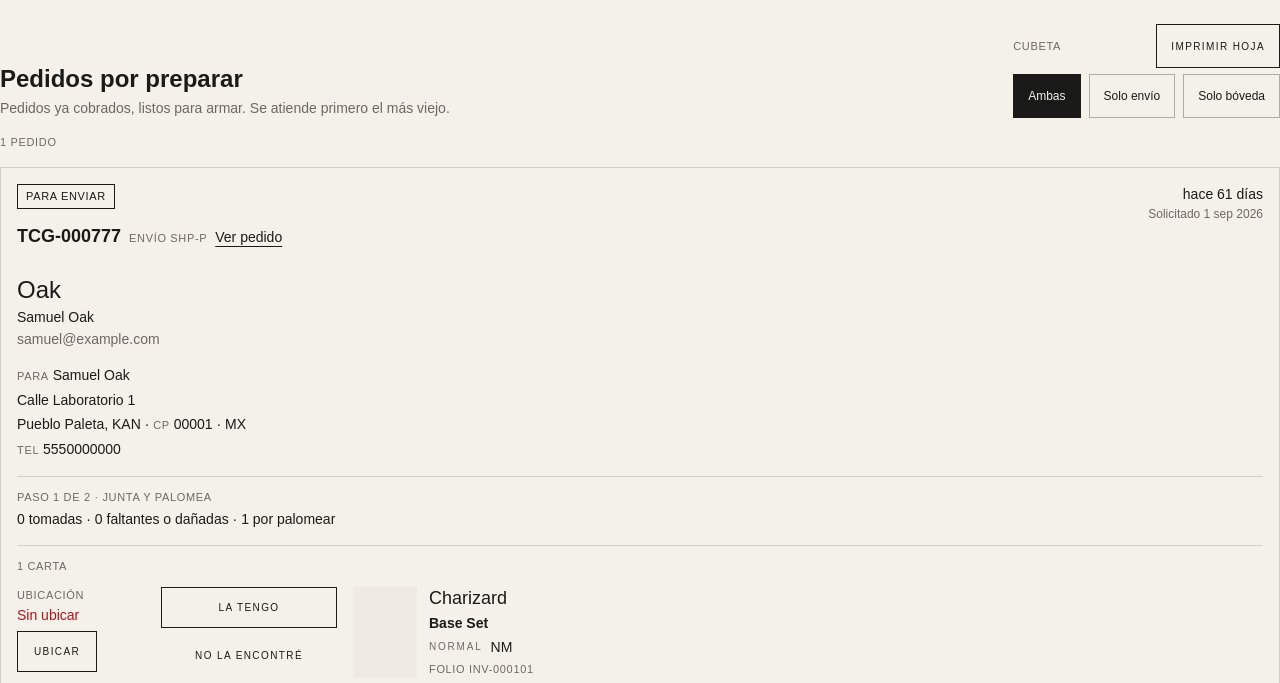
M4View · hueco 1: «Ubicar» una carta de un pedido de envío › «Sin ubicar» ⇒ «Ubicar» abre el selector (solo stock de plataforma), mueve y la tarjeta muestra la ubicación nueva (respuesta sin location)
Expected: the element with test id "prep-location-si-1" shows "Sin ubicar", [17,607,79,623]
Click the button with aria-label "Ubicar la carta con folio INV-000101": (57, 652) [17,631,97,672]
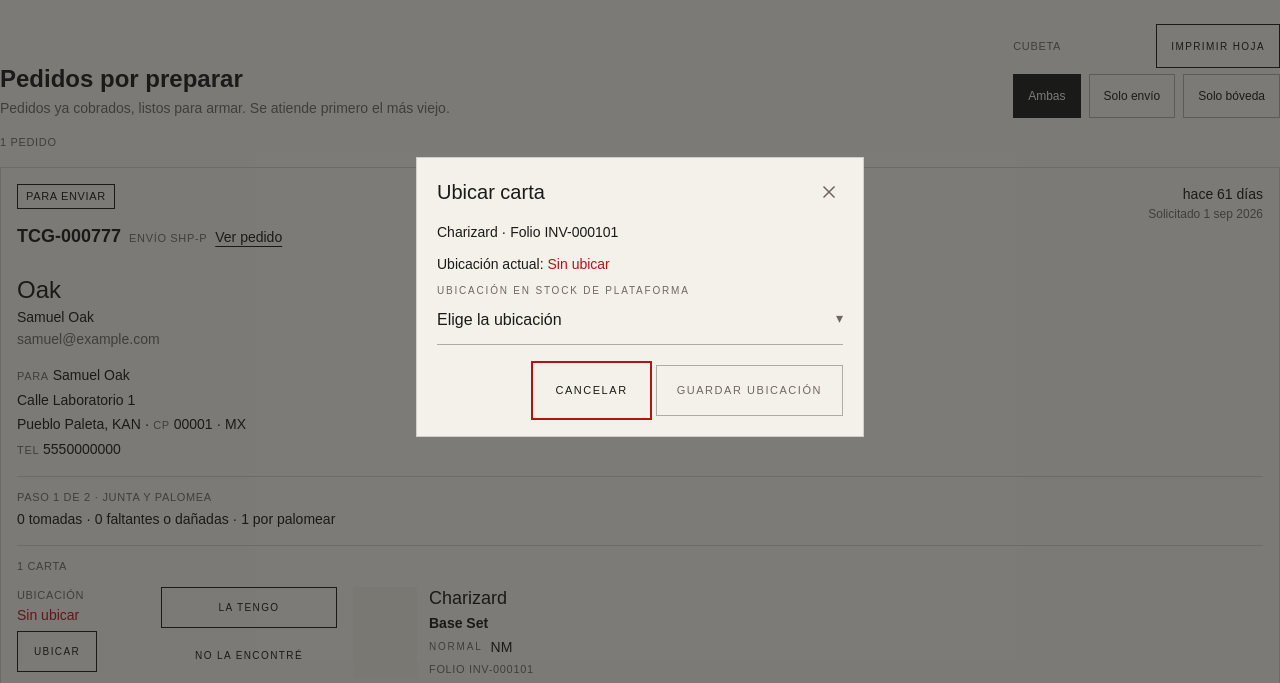
Expected: the button "Guardar ubicación" is disabled, [656,365,843,416]
Select "Stock de plataforma · C03-F02-S16" in the dropdown labelled "Ubicación en stock de plataforma": (640, 320) [437,308,843,332]
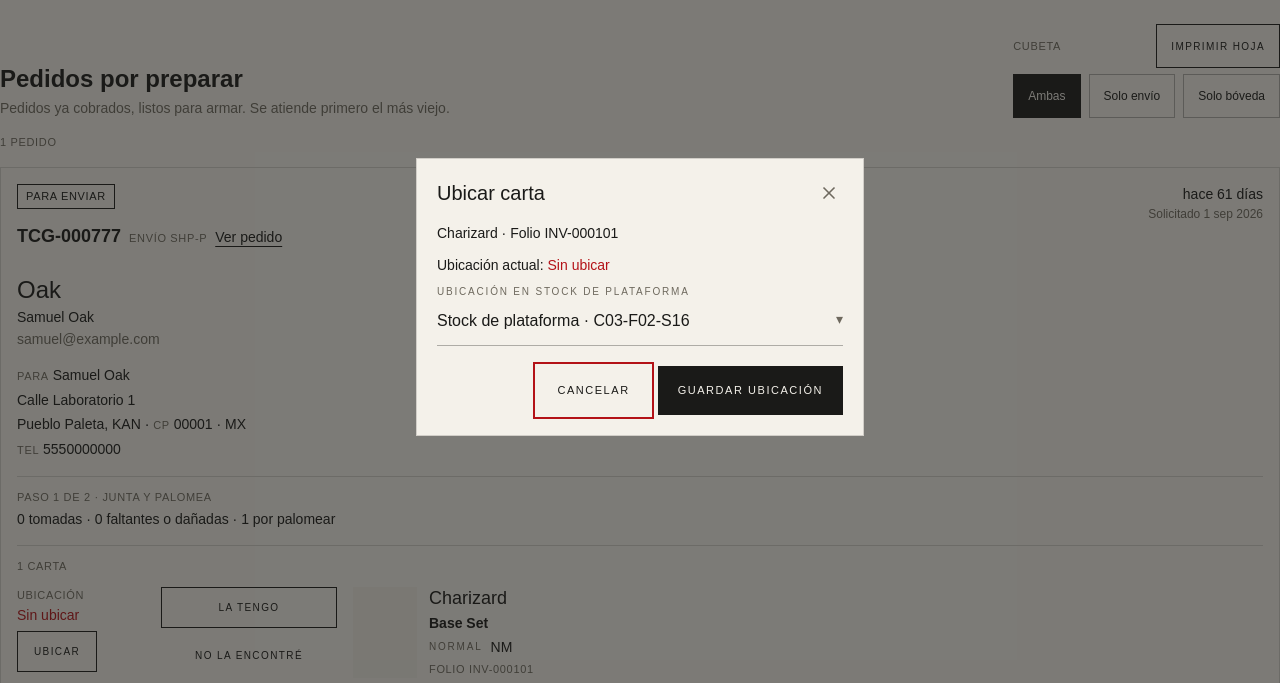
Click the button "Guardar ubicación": (750, 391) [658,366,843,415]
(page scrolled)
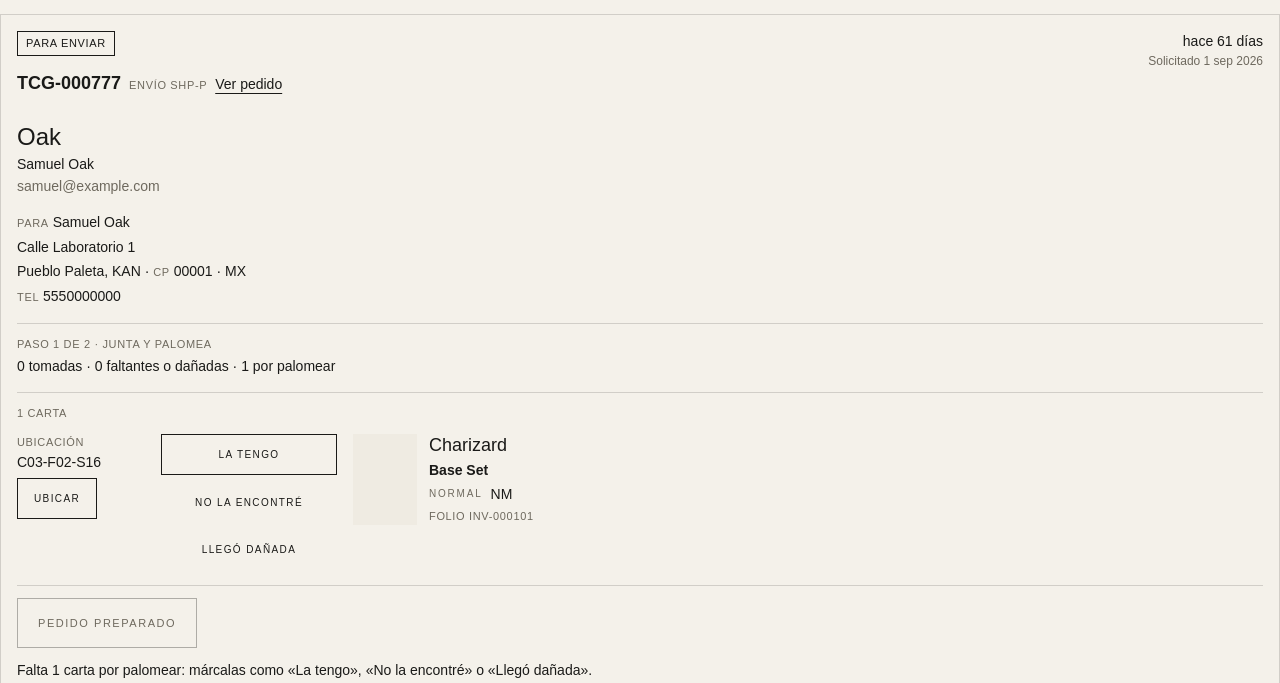
Expected: the element with test id "prep-location-si-1" shows "C03-F02-S16", [17,454,101,470]
Expected: the element with test id "prep-location-si-1" no longer shows "Sin ubicar", [17,436,101,519]
Expected: the dialog is gone
